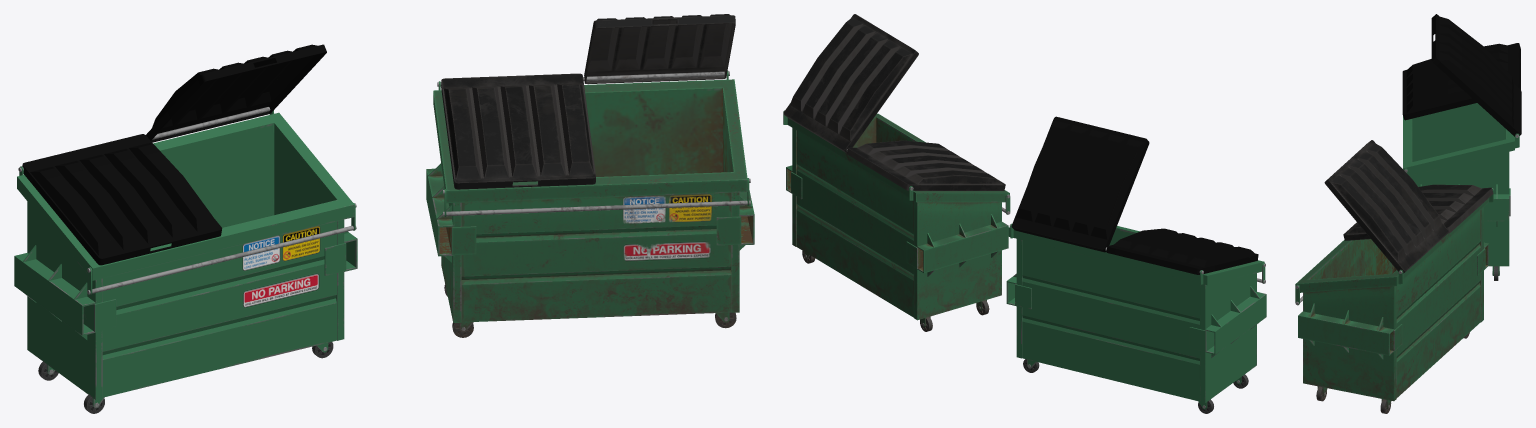
Rendered from low_poly__dumpsters.glb.
3 renders of one model, left to right at view 1: azimuth 30°, elevation 25°; view 2: azimuth 150°, elevation 25°; view 3: azimuth 270°, elevation 25°, orthographic. The views are drawn at different scales.
Visible parts, largest first — view 1: Base_01_Dumpster_01_0, Base_02_Dumpster_02_0, Cap_03_Dumpster_02_0, Cap_01_Dumpster_01_0, Cap_04_Dumpster_02_0, Cap_02_Dumpster_01_0; view 2: Base_01_Dumpster_01_0, Base_02_Dumpster_02_0, Cap_02_Dumpster_01_0, Cap_04_Dumpster_02_0, Cap_03_Dumpster_02_0, Cap_01_Dumpster_01_0; view 3: Base_02_Dumpster_02_0, Base_01_Dumpster_01_0, Cap_04_Dumpster_02_0, Cap_02_Dumpster_01_0, Cap_01_Dumpster_01_0, Cap_03_Dumpster_02_0.
Boxes of the visible parts, x1,y1,x2,y2 form: Base_01_Dumpster_01_0: (14, 107, 357, 399); Base_02_Dumpster_02_0: (426, 71, 754, 322); Cap_03_Dumpster_02_0: (441, 73, 595, 189); Cap_01_Dumpster_01_0: (22, 134, 222, 265); Cap_04_Dumpster_02_0: (584, 14, 735, 83); Cap_02_Dumpster_01_0: (146, 44, 326, 142); Base_01_Dumpster_01_0: (1006, 223, 1266, 402); Base_02_Dumpster_02_0: (783, 110, 1010, 320); Cap_02_Dumpster_01_0: (1011, 116, 1149, 252); Cap_04_Dumpster_02_0: (783, 14, 918, 152); Cap_03_Dumpster_02_0: (846, 140, 1005, 190); Cap_01_Dumpster_01_0: (1106, 228, 1258, 274); Base_02_Dumpster_02_0: (1295, 188, 1493, 401); Base_01_Dumpster_01_0: (1403, 103, 1519, 266); Cap_04_Dumpster_02_0: (1324, 140, 1448, 273); Cap_02_Dumpster_01_0: (1431, 14, 1521, 136); Cap_01_Dumpster_01_0: (1402, 43, 1520, 120); Cap_03_Dumpster_02_0: (1343, 184, 1493, 240).
Bounding box in the file's own units: 4.94 × 2.23 × 2.02.
2 materials, 2 textured.
